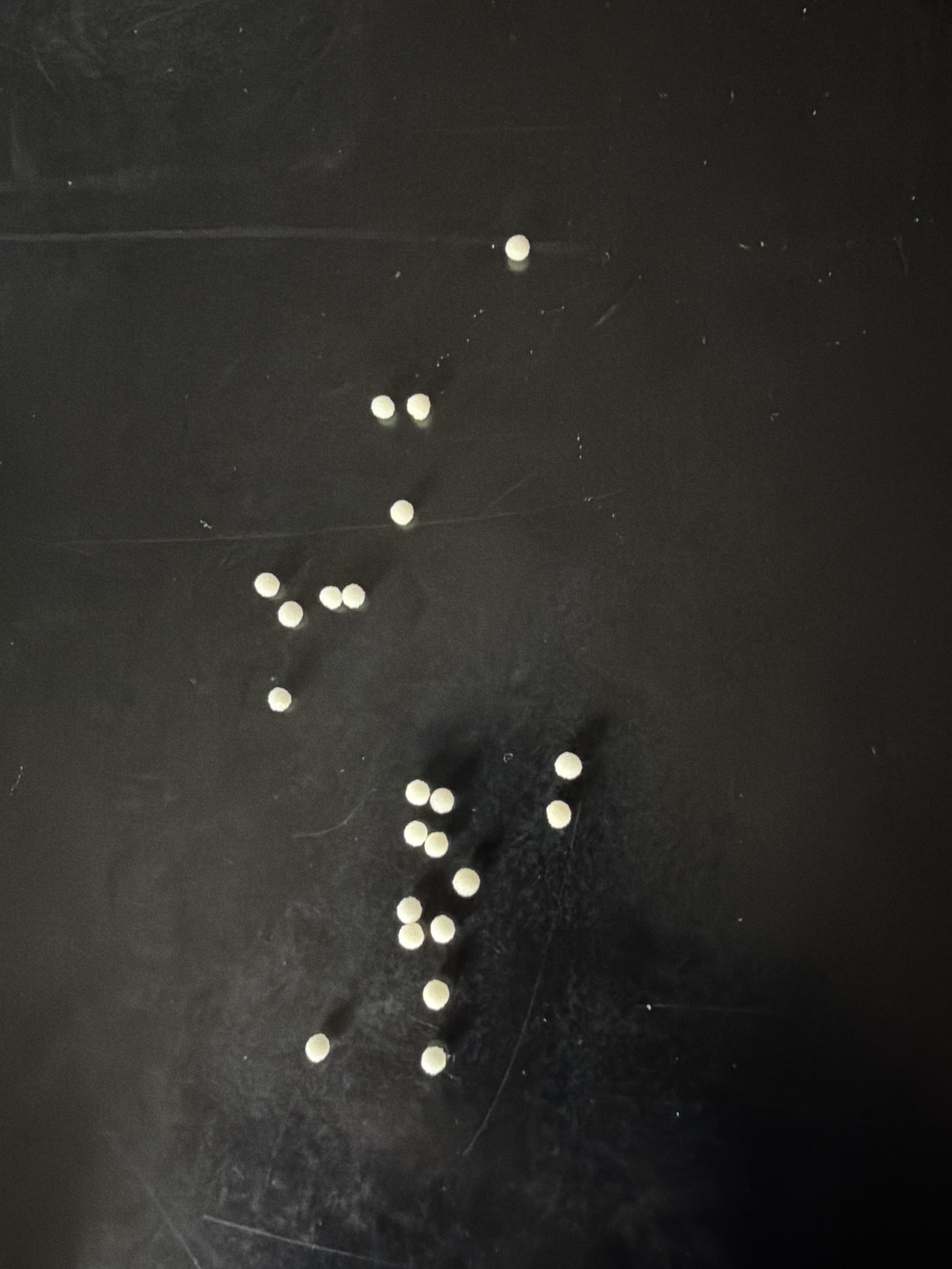pill: (452, 868, 480, 898), (422, 980, 449, 1011), (554, 751, 582, 780), (421, 1045, 447, 1076), (430, 914, 455, 944), (305, 1033, 330, 1063), (398, 922, 424, 950), (546, 800, 571, 829), (406, 393, 431, 422), (505, 234, 530, 263), (277, 601, 303, 628), (397, 896, 422, 924), (430, 787, 455, 815), (254, 572, 280, 598), (424, 831, 449, 858), (390, 499, 414, 527), (405, 780, 430, 806), (342, 583, 366, 610), (404, 821, 428, 847), (268, 686, 292, 712), (371, 395, 395, 421), (318, 587, 343, 610)
